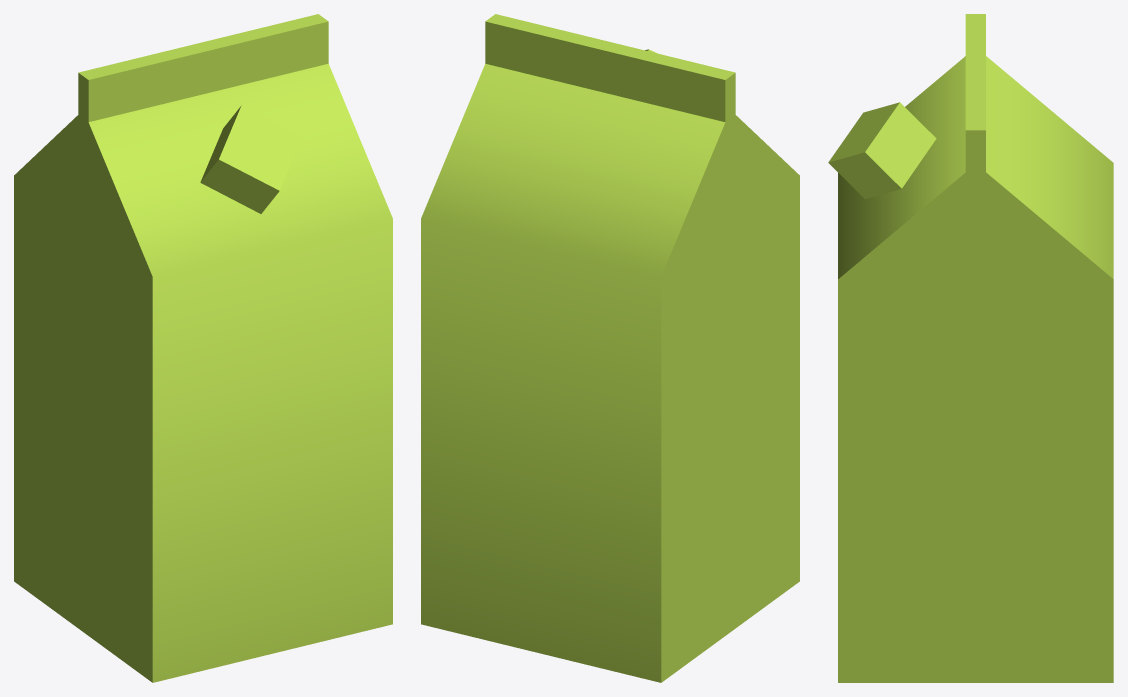
The model's file is milk_convex.fbx.
3 renders of one model, left to right at view 1: azimuth 30°, elevation 25°; view 2: azimuth 150°, elevation 25°; view 3: azimuth 270°, elevation 25°, orthographic.
Visible parts, largest first — view 1: milk_convex, milk_convex.001, milk_convex.002; view 2: milk_convex, milk_convex.001; view 3: milk_convex, milk_convex.002, milk_convex.001.
Part boxes in pixels (x1=…): milk_convex: x1=14, y1=64, x2=392, y2=682; milk_convex.001: x1=78, y1=14, x2=328, y2=122; milk_convex.002: x1=200, y1=105, x2=302, y2=213; milk_convex: x1=421, y1=64, x2=799, y2=682; milk_convex.001: x1=485, y1=14, x2=735, y2=122; milk_convex: x1=838, y1=56, x2=1113, y2=682; milk_convex.002: x1=828, y1=102, x2=936, y2=199; milk_convex.001: x1=965, y1=14, x2=985, y2=172.
Size of the model in its own units: 3.21 by 3.33 by 7.11.
